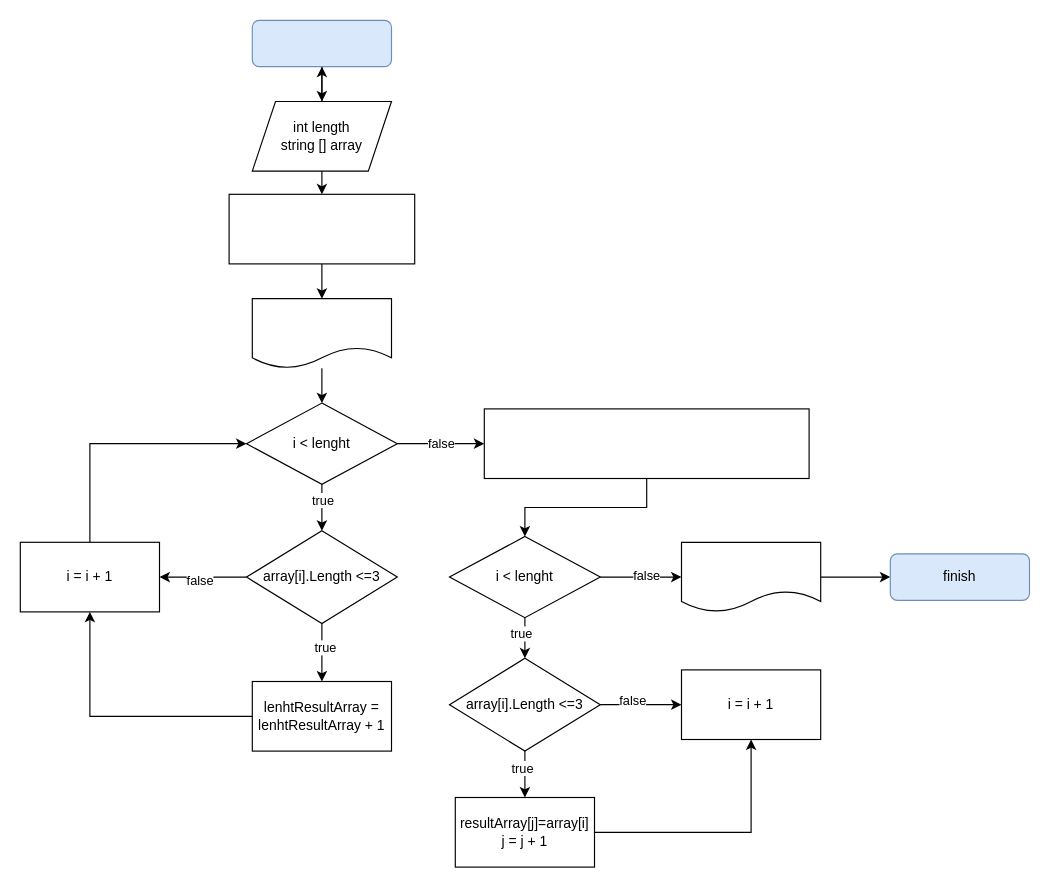
Image size: 1050x887. Some labels were removed from this diagram. Here are the shapes that lost their labels. From the top down, the centre of each, then its label:
At (x=321, y=43): "start".
At (x=321, y=228): "int lenhtResultArray = 0 int i = 0".
At (x=321, y=333): "array".
At (x=646, y=443): "string resultArray = new string[lengthResultArray] int j = 0".
At (x=750, y=576): "resultArray".
